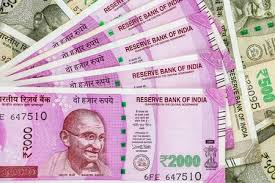twoThousand: (4, 104, 209, 175)
